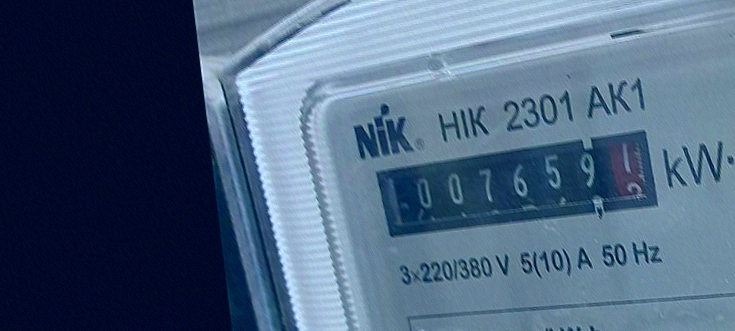0: (443, 167, 468, 209), (413, 173, 437, 213)
1: (614, 138, 637, 177)
5: (540, 150, 567, 193)
6: (507, 158, 533, 202)
7: (474, 163, 500, 205)
9: (576, 148, 602, 190)
screen: (365, 123, 666, 249)
